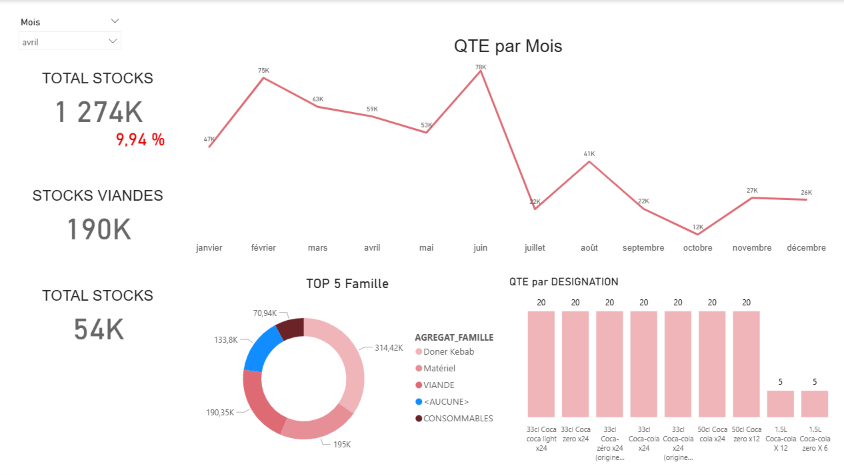

This screenshot's page, from the dashboard's own definition file:
{"tool":"powerbi","page":{"name":"Page 1","canvas":[1280,720],"ordinal":0},"visuals":[{"type":"slicer","fields":{"Values":["01_STOCKS.DATE.Variation.Hiérarchie de dates.Mois"]},"box":[18.3,20,175,66.7],"z":0},{"type":"card","title":"TOTAL STOCKS","fields":{"Values":["Sum(01_STOCKS.SOMME)"]},"box":[17.8,105.6,260,91.1],"z":1000},{"type":"card","title":"STOCKS VIANDES","fields":{"Values":["01_STOCKS.Total stocks viandes"]},"box":[18.3,283.3,260,91.7],"z":2000},{"type":"card","title":"TOTAL STOCKS","fields":{"Values":["01_STOCKS.Total stocks boissons"]},"box":[18.3,435,260,91.7],"z":3000},{"type":"card","title":"TOTAL STOCKS","fields":{"Values":["01_STOCKS.Var_M_M-1"]},"box":[145,178.3,133.3,60],"z":4000},{"type":"lineChart","title":"QTE par Mois","fields":{"Y":["Sum(01_STOCKS.QTE)"],"Category":["01_STOCKS.DATE.Variation.Hiérarchie de dates.Mois"]},"box":[278,54,982,336],"z":5000},{"type":"donutChart","title":"TOP 5 Famille","fields":{"Y":["Sum(01_STOCKS.SOMME)"],"Category":["01_STOCKS.AGREGAT_FAMILLE"]},"box":[286,416,480,290],"z":6000},{"type":"clusteredColumnChart","fields":{"Y":["Sum(01_STOCKS.QTE)"],"Category":["01_STOCKS.DESIGNATION"]},"box":[766,416,514,290],"z":7000}]}

Visuals, with their boxes in screenshot pixels (x1, y1, x2, y2), scaled from the page's 1280x720 canvas onto the 844x475 screenshot:
slicer - 01_STOCKS.DATE.Variation.Hiérarchie de dates.Mois: 12,13,127,57
"TOTAL STOCKS" card: 12,70,183,130
"STOCKS VIANDES" card: 12,187,184,247
"TOTAL STOCKS" card: 12,287,184,347
"TOTAL STOCKS" card: 96,118,184,157
"QTE par Mois" lineChart: 183,36,831,257
"TOP 5 Famille" donutChart: 189,274,505,466
clusteredColumnChart - Sum(01_STOCKS.QTE) x 01_STOCKS.DESIGNATION: 505,274,843,466
